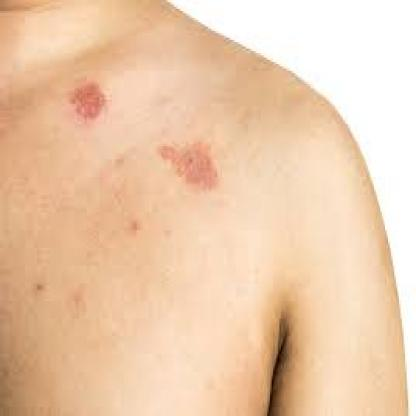Ringworm: (154, 132, 233, 199), (66, 71, 108, 124)
